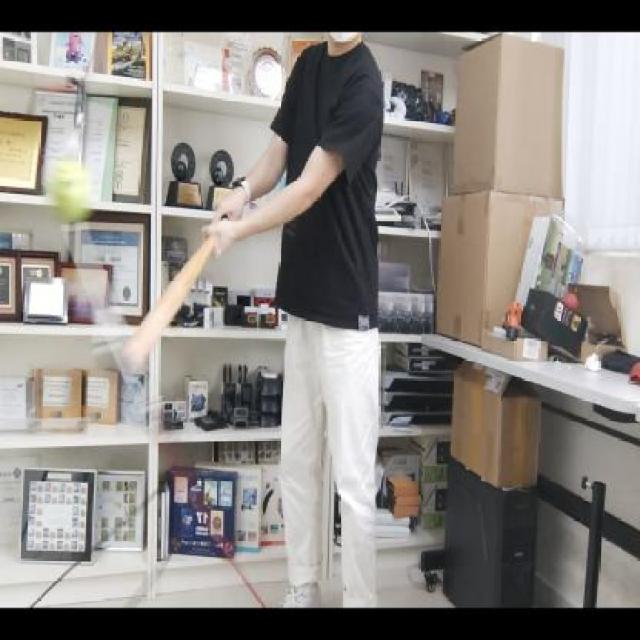baseball: (45, 165, 87, 223)
